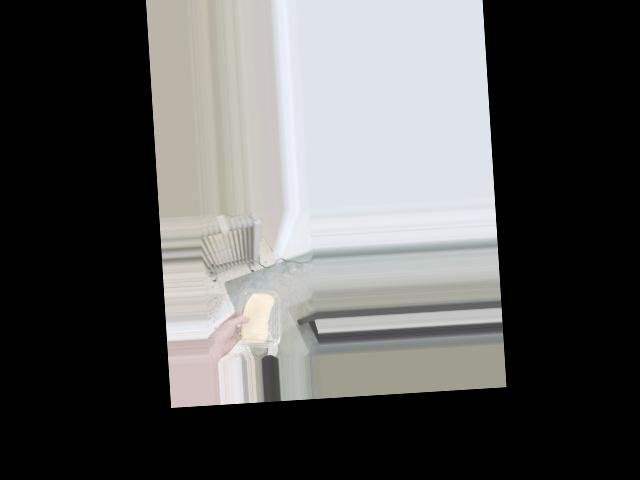cheese: (233, 285, 281, 348)
